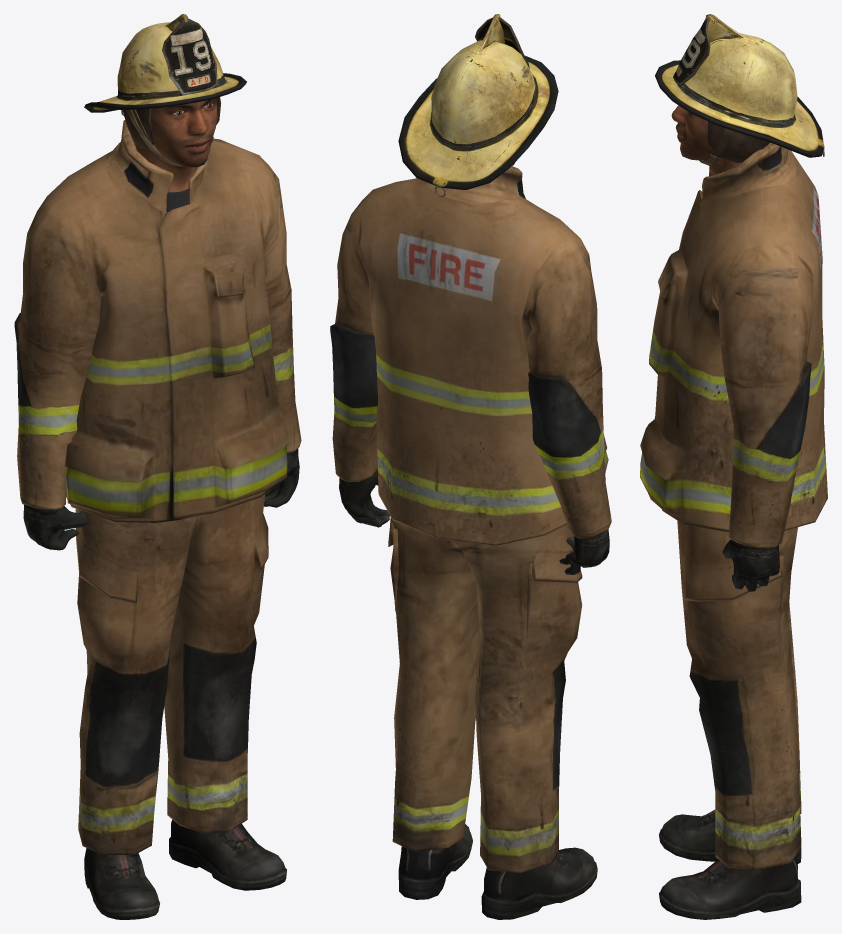
The model's file is firefighter.glb.
3 views of the same model, side by side, from view 1: azimuth 30°, elevation 25°; view 2: azimuth 150°, elevation 25°; view 3: azimuth 270°, elevation 25° (orthographic).
Parts seen in each view (by area): view 1: firefighter; view 2: firefighter; view 3: firefighter.
Boxes of the visible parts, box(x1,y1,x2,y2) form: firefighter: box(14, 14, 301, 919); firefighter: box(330, 14, 611, 919); firefighter: box(640, 14, 827, 919).
Bounding box in the file's own units: 0.6161 × 1.87 × 0.3686.
3 materials, 3 textured.
